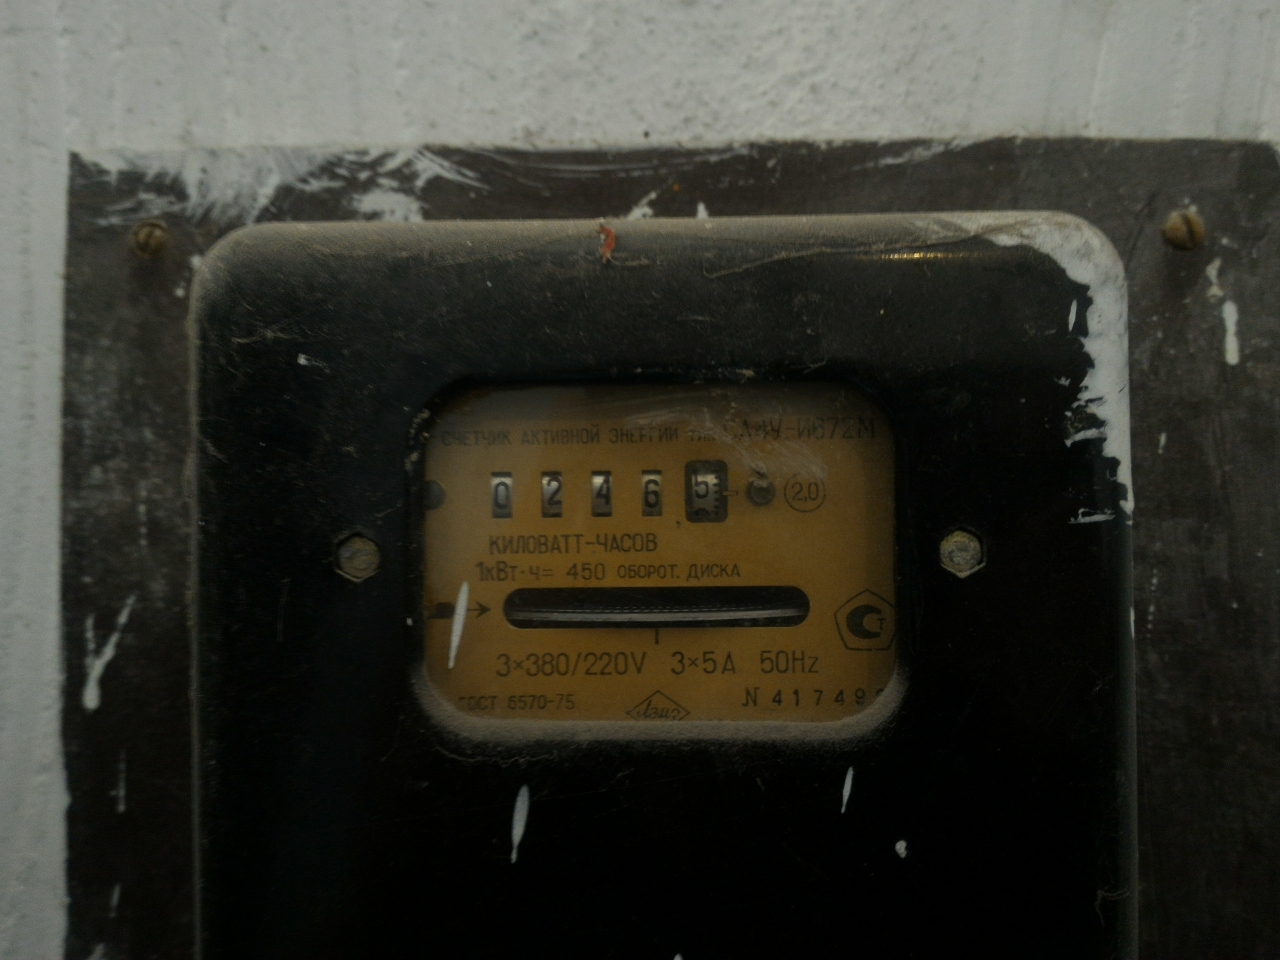0: (493, 478, 511, 510)
2: (544, 474, 564, 507)
4: (593, 473, 612, 507)
5: (692, 466, 711, 500)
6: (642, 477, 661, 509)
screen: (477, 451, 743, 532)
